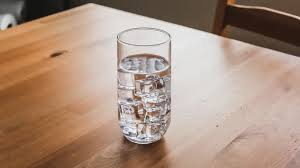air: (112, 51, 182, 139)
